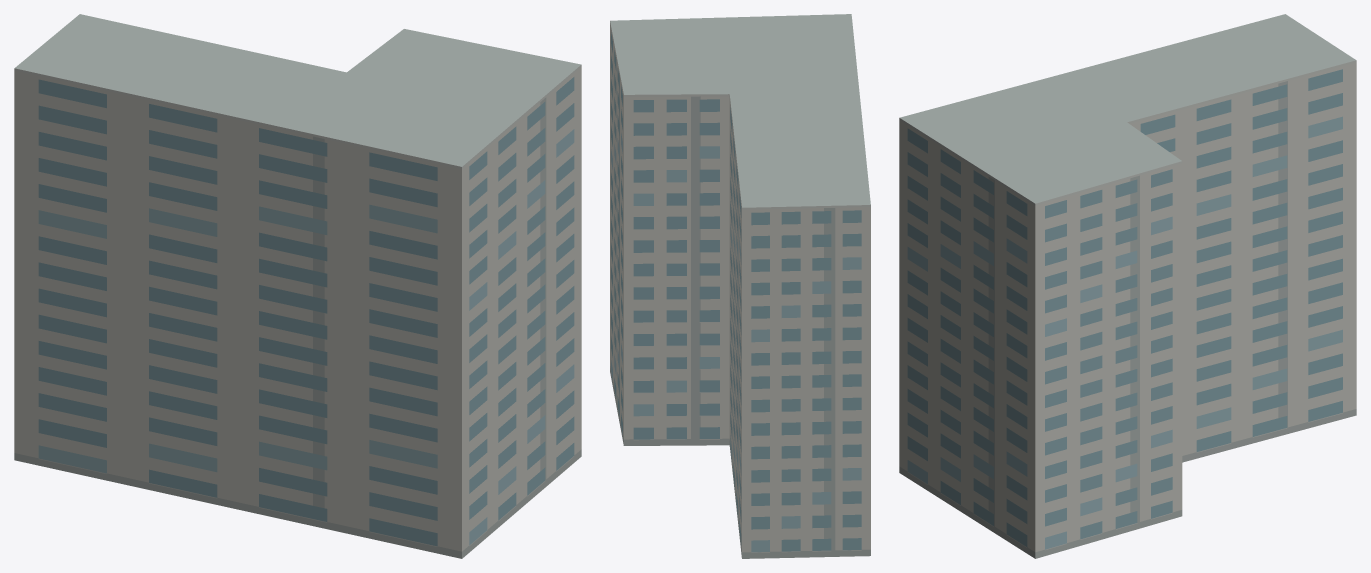
File: residential-4acc22d8-2300-43d8-b6fa-aafefae8bf03.glb
3 renders of one model, left to right at view 1: azimuth 30°, elevation 25°; view 2: azimuth 150°, elevation 25°; view 3: azimuth 270°, elevation 25°, orthographic. The views are drawn at different scales.
Parts seen in each view (by area): view 1: residential-4acc22d8-2300-43d8-b6fa-aafefae8bf03.tmp; view 2: residential-4acc22d8-2300-43d8-b6fa-aafefae8bf03.tmp; view 3: residential-4acc22d8-2300-43d8-b6fa-aafefae8bf03.tmp.
Part boxes in pixels (left/top/right/bottom): residential-4acc22d8-2300-43d8-b6fa-aafefae8bf03.tmp: left=14, top=14, right=581, bottom=558; residential-4acc22d8-2300-43d8-b6fa-aafefae8bf03.tmp: left=610, top=14, right=870, bottom=558; residential-4acc22d8-2300-43d8-b6fa-aafefae8bf03.tmp: left=899, top=14, right=1356, bottom=558.
Size of the model in its own units: 45.83 by 40 by 46.66.
